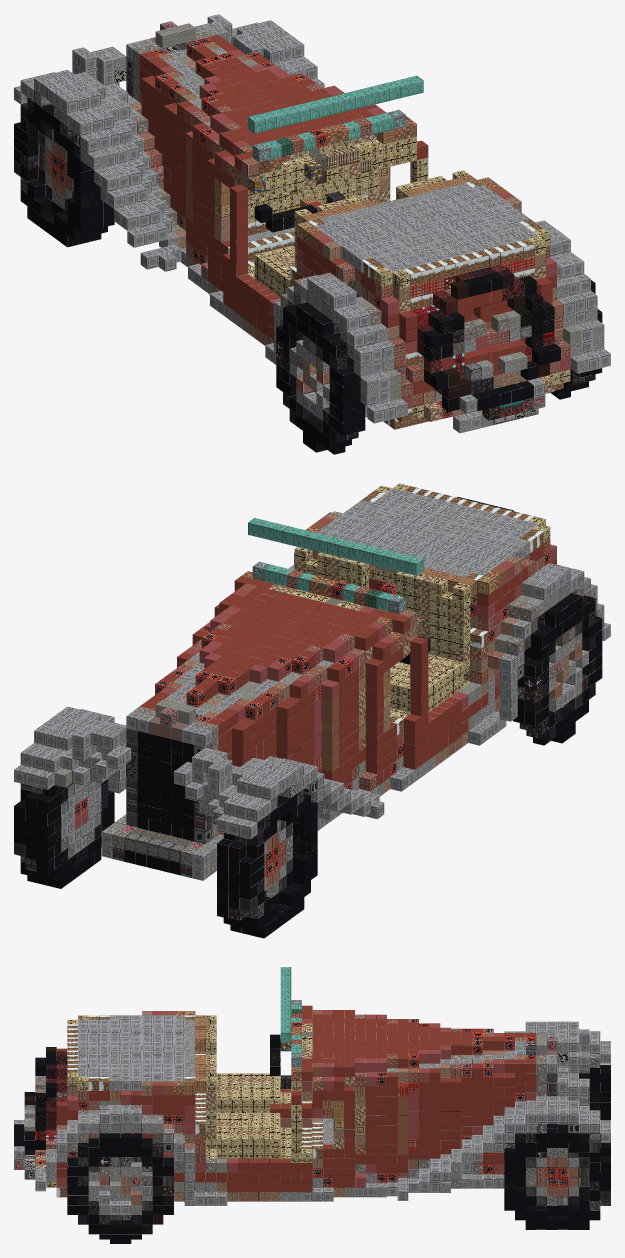
The model's file is 3cede8fc-fa9c-11ec-b554-107b44811e24.gltf.
3 views of the same model, one above another, from view 1: azimuth 30°, elevation 25°; view 2: azimuth 150°, elevation 25°; view 3: azimuth 270°, elevation 25° (orthographic). The views are drawn at different scales.
Parts seen in each view (by area): view 1: Remeshed_Object; view 2: Remeshed_Object; view 3: Remeshed_Object.
Boxes of the visible parts, <box> form: Remeshed_Object: <box>14,14,610,454</box>; Remeshed_Object: <box>14,483,610,938</box>; Remeshed_Object: <box>14,967,610,1243</box>.
Size of the model in its own units: 2.23 by 1.98 by 5.55.
1 material, 1 textured.
